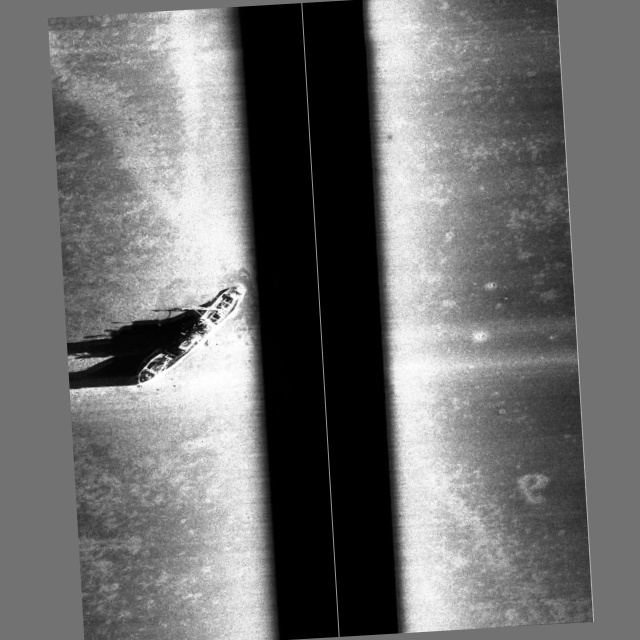Shipwreck: (129, 283, 251, 387)
